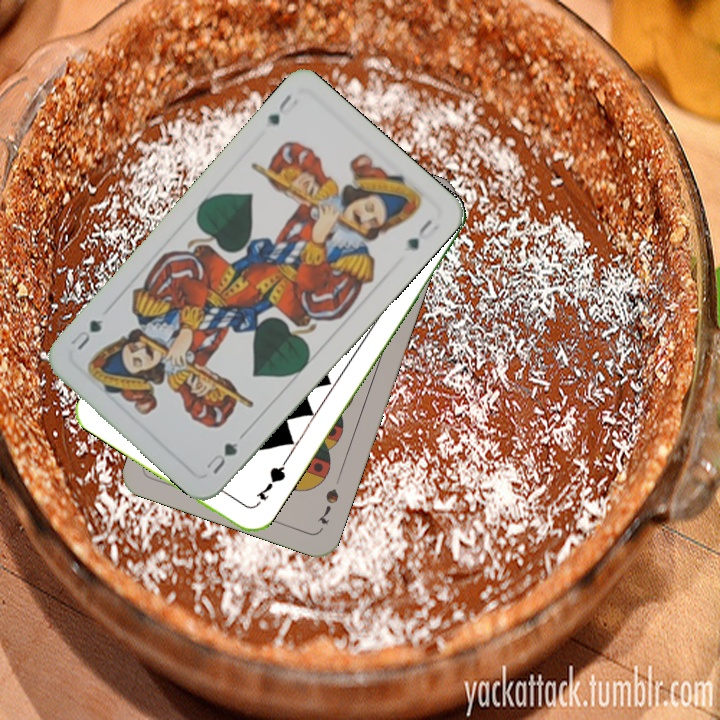G7: (252, 457, 289, 503)
GU: (202, 438, 241, 477), (262, 89, 301, 128)
S7: (312, 484, 342, 527)
